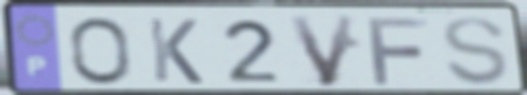2: (220, 18, 282, 84)
F: (363, 14, 432, 87)
K: (145, 16, 206, 87)
O: (66, 15, 135, 87)
S: (439, 14, 512, 88)
V: (284, 12, 360, 90)
